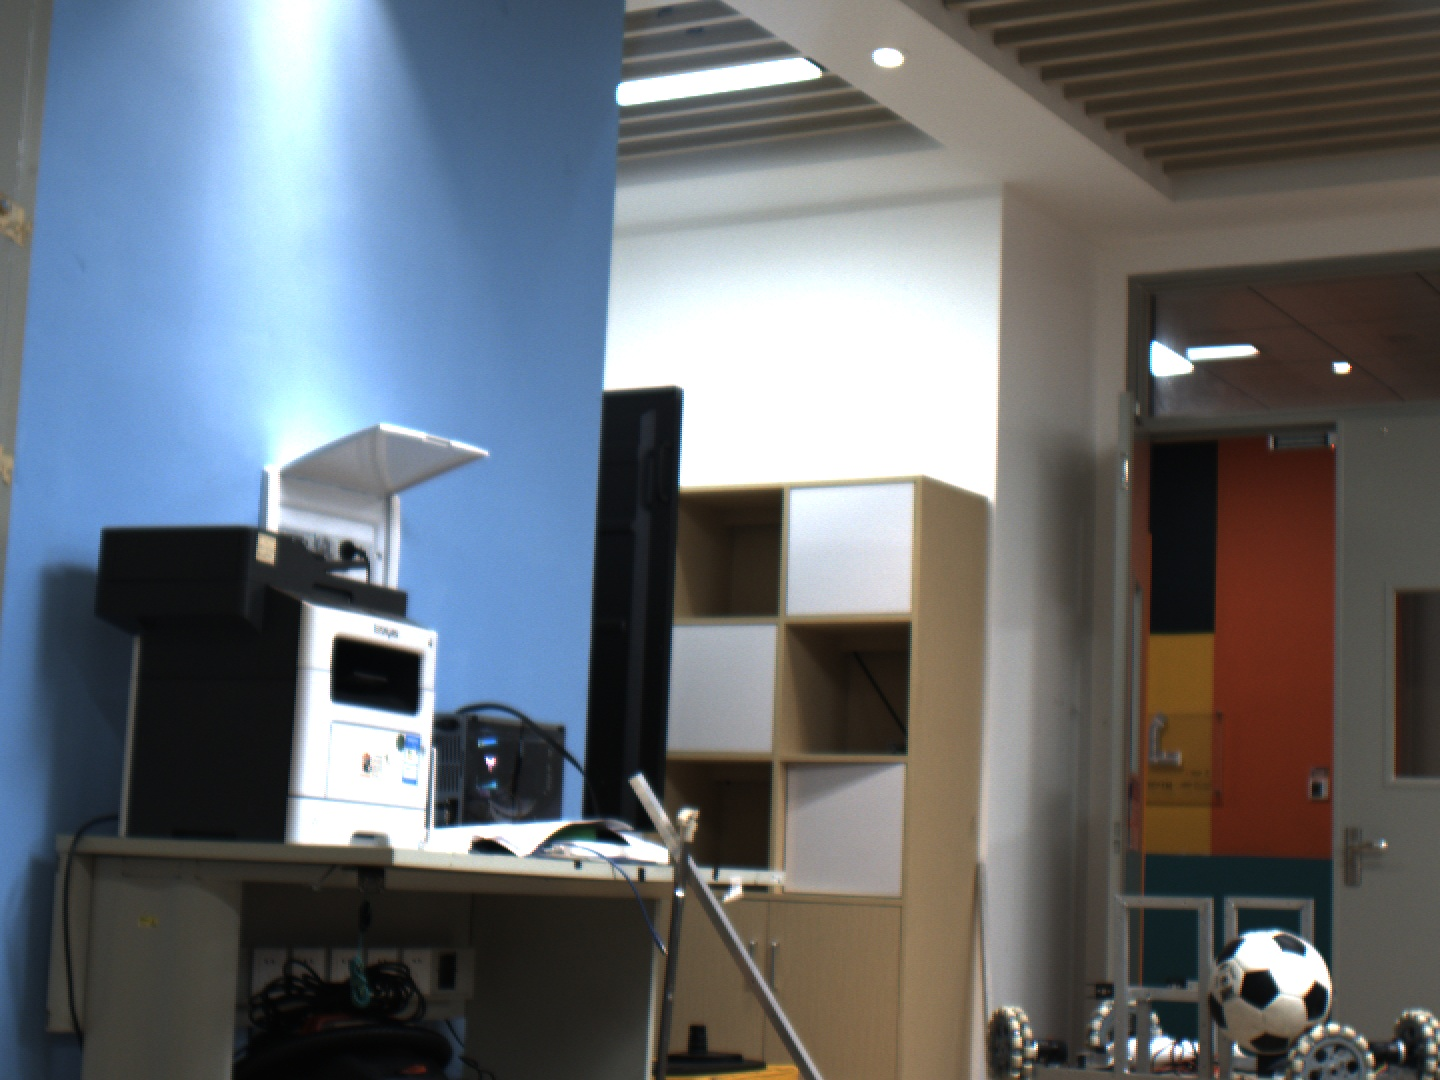ball: (1198, 927, 1340, 1064)
